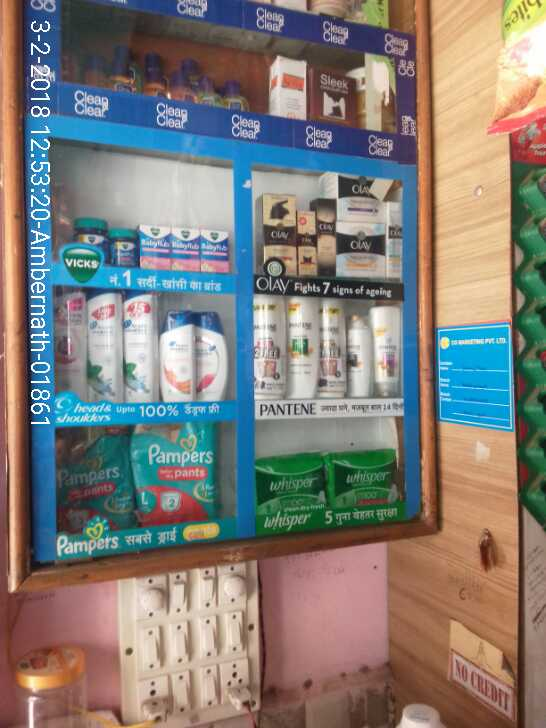vicks: (78, 214, 238, 282)
